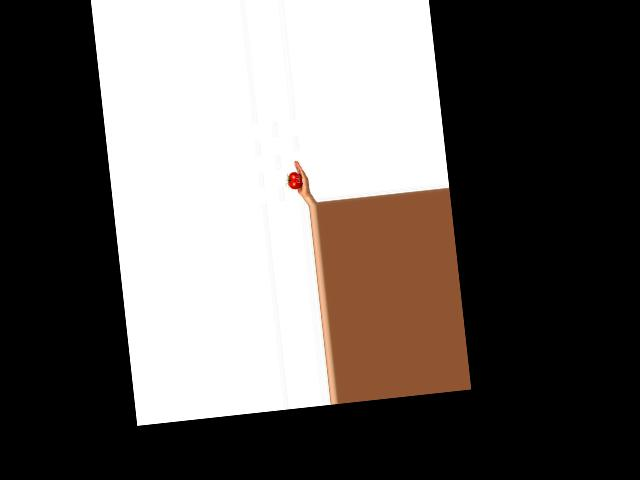tomato: (287, 171, 303, 189)
